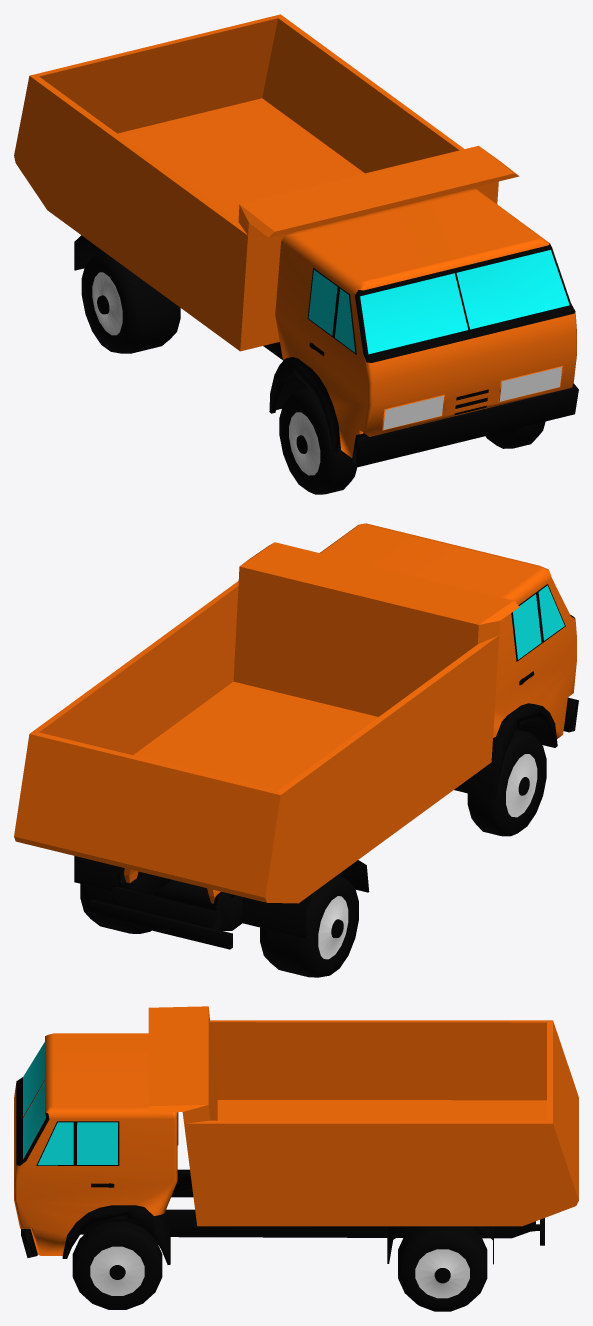
File: Truck.fbx
3 renders of one model, top to bottom at view 1: azimuth 30°, elevation 25°; view 2: azimuth 150°, elevation 25°; view 3: azimuth 270°, elevation 25°, orthographic. The views are drawn at different scales.
Parts seen in each view (by area): view 1: Truck Bed, Truck Body, Front Tyres, Rear Tyres; view 2: Truck Bed, Truck Body, Rear Tyres, Front Tyres; view 3: Truck Bed, Truck Body, Rear Tyres, Front Tyres.
Boxes of the visible parts, bbox=[...] form: Truck Bed: bbox=[14, 14, 519, 351]; Truck Body: bbox=[74, 188, 578, 466]; Front Tyres: bbox=[279, 388, 545, 494]; Rear Tyres: bbox=[81, 250, 180, 353]; Truck Bed: bbox=[14, 542, 519, 903]; Truck Body: bbox=[74, 523, 578, 949]; Rear Tyres: bbox=[80, 874, 358, 977]; Front Tyres: bbox=[467, 729, 546, 836]; Truck Bed: bbox=[148, 1006, 578, 1226]; Truck Body: bbox=[14, 1033, 544, 1264]; Rear Tyres: bbox=[398, 1226, 487, 1311]; Front Tyres: bbox=[72, 1221, 162, 1309].
Size of the model in its own units: 257 by 594 by 246.
1 material, 1 textured.
